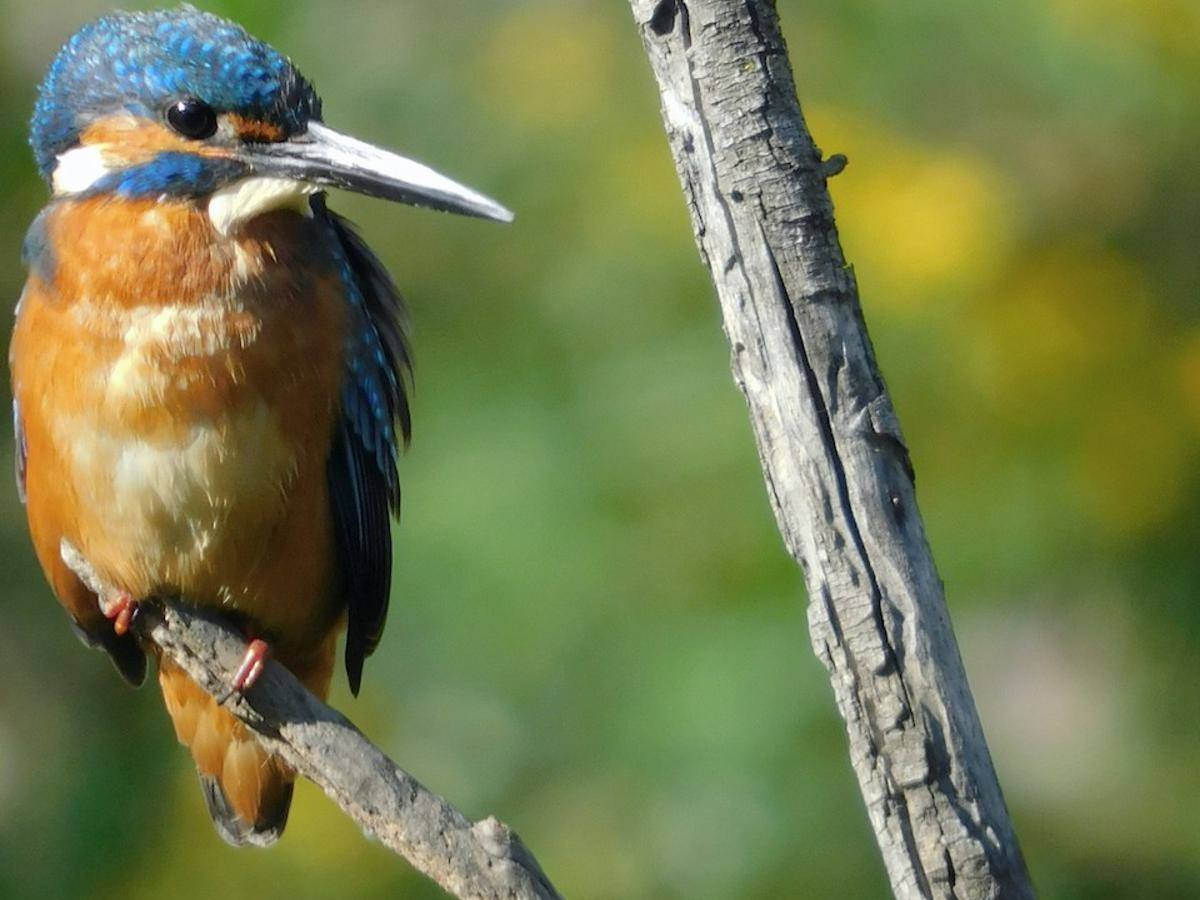kingfisher: (12, 18, 528, 846)
